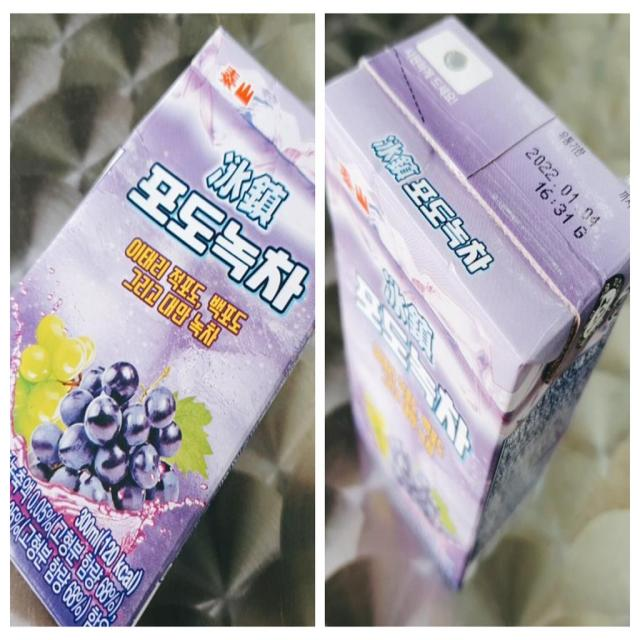cardboard: (10, 30, 314, 627), (329, 21, 629, 586)
